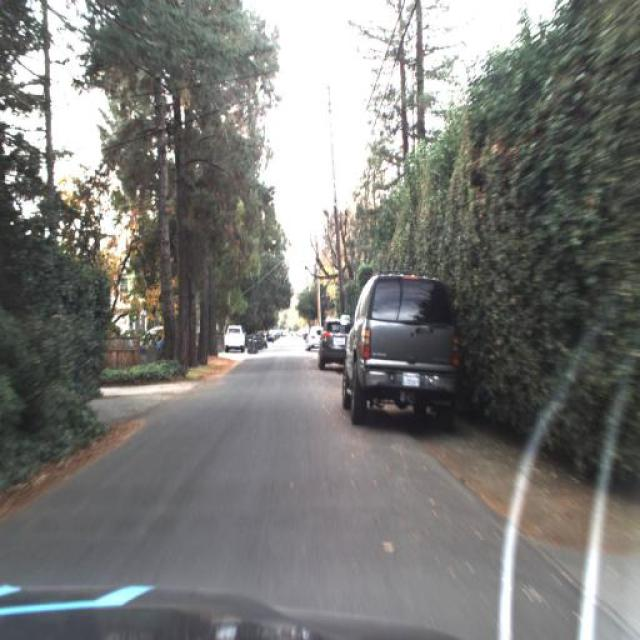car: (338, 262, 463, 430), (315, 316, 350, 372), (298, 318, 322, 361), (220, 320, 246, 355), (263, 326, 276, 346)
